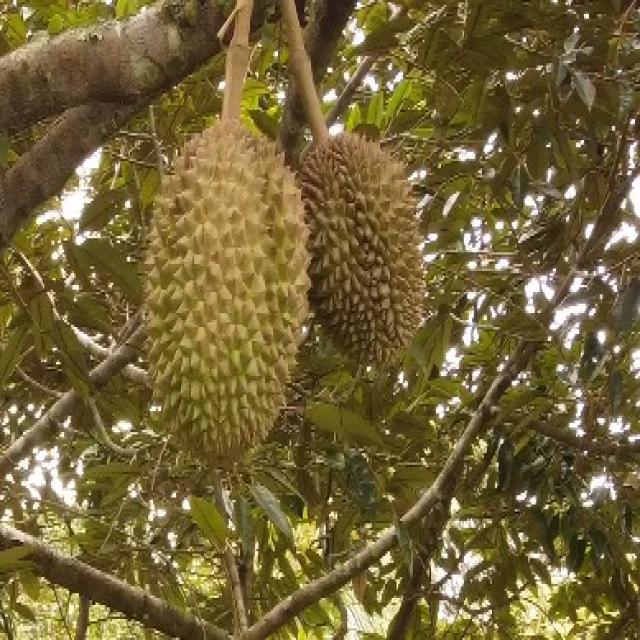mature: (144, 115, 312, 462), (296, 126, 429, 364)
